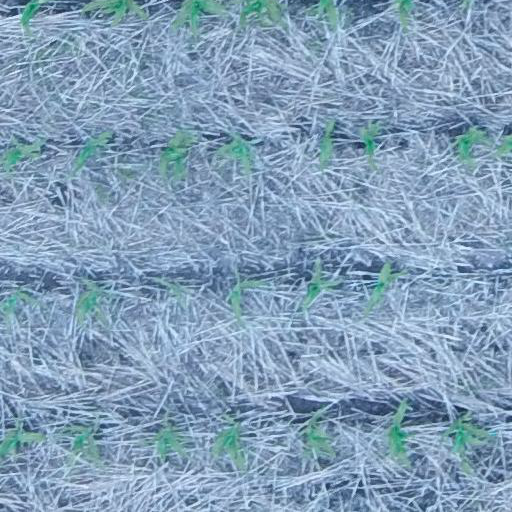planta: (442, 409, 496, 473), (364, 260, 406, 312), (158, 130, 195, 179), (302, 259, 336, 309), (73, 130, 112, 172), (227, 280, 265, 320), (387, 398, 410, 462), (214, 421, 244, 470), (76, 280, 107, 327), (217, 131, 252, 172), (1, 137, 43, 170), (144, 426, 186, 459), (451, 126, 488, 163), (62, 426, 102, 460), (306, 409, 334, 457), (360, 119, 382, 168), (1, 289, 35, 318), (319, 117, 337, 168)
